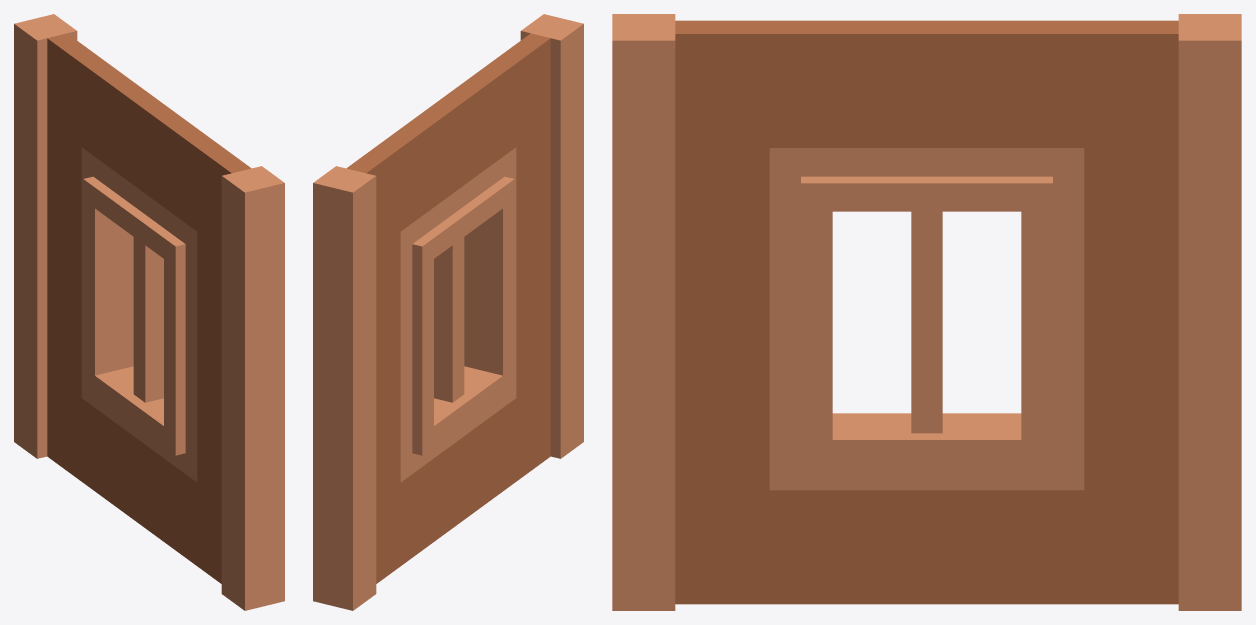
File: wallWoodWindowShutters.fbx
The picture shows the model from 3 angles, left to right: view 1: azimuth 30°, elevation 25°; view 2: azimuth 150°, elevation 25°; view 3: azimuth 270°, elevation 25°; orthographic projection. The views are drawn at different scales.
Visible parts, largest first — view 1: wallWoodWindowShutters; view 2: wallWoodWindowShutters; view 3: wallWoodWindowShutters.
Boxes of the visible parts, x1,y1,x2,y2 form: wallWoodWindowShutters: (14, 14, 284, 610); wallWoodWindowShutters: (313, 14, 583, 610); wallWoodWindowShutters: (612, 14, 1241, 610).
Bounding box in the file's own units: 1 × 10 × 10.
